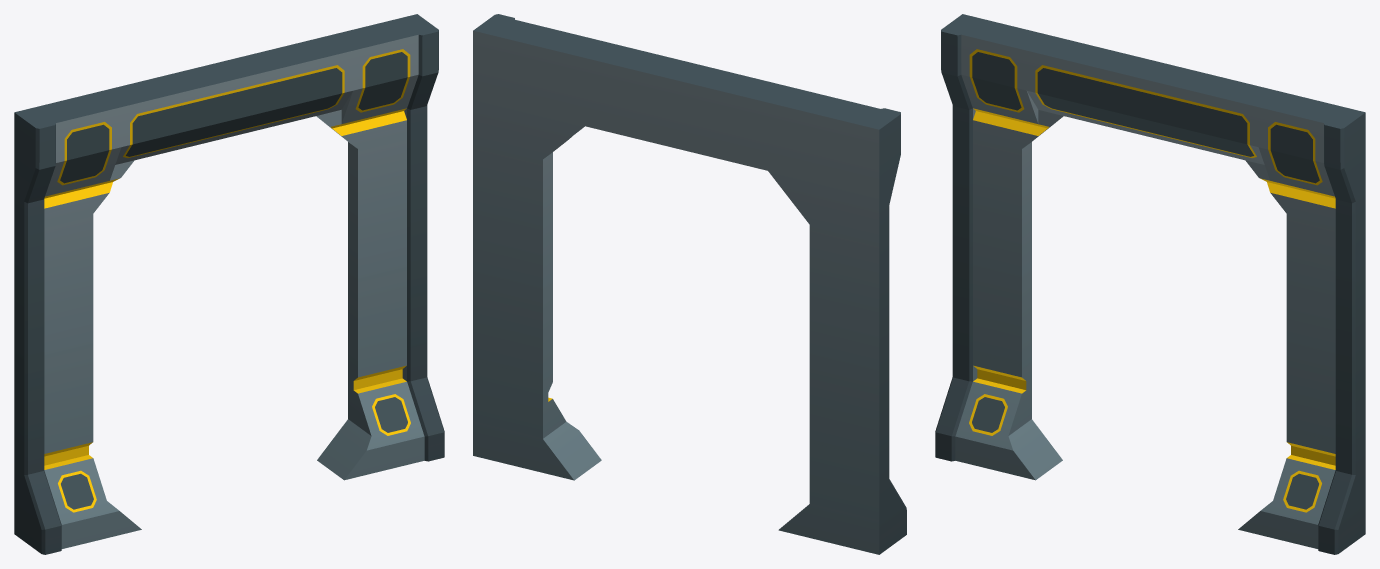
The model's file is Wall_type_C_060.fbx.
3 renders of one model, left to right at view 1: azimuth 30°, elevation 25°; view 2: azimuth 150°, elevation 25°; view 3: azimuth 330°, elevation 25°, orthographic.
Parts seen in each view (by area): view 1: Wall_type_C_060; view 2: Wall_type_C_060; view 3: Wall_type_C_060.
Boxes of the visible parts, x1=… form: Wall_type_C_060: x1=14, y1=14, x2=444, y2=554; Wall_type_C_060: x1=473, y1=14, x2=906, y2=554; Wall_type_C_060: x1=935, y1=14, x2=1365, y2=554.
Bounding box in the file's own units: 400 × 50 × 400.
